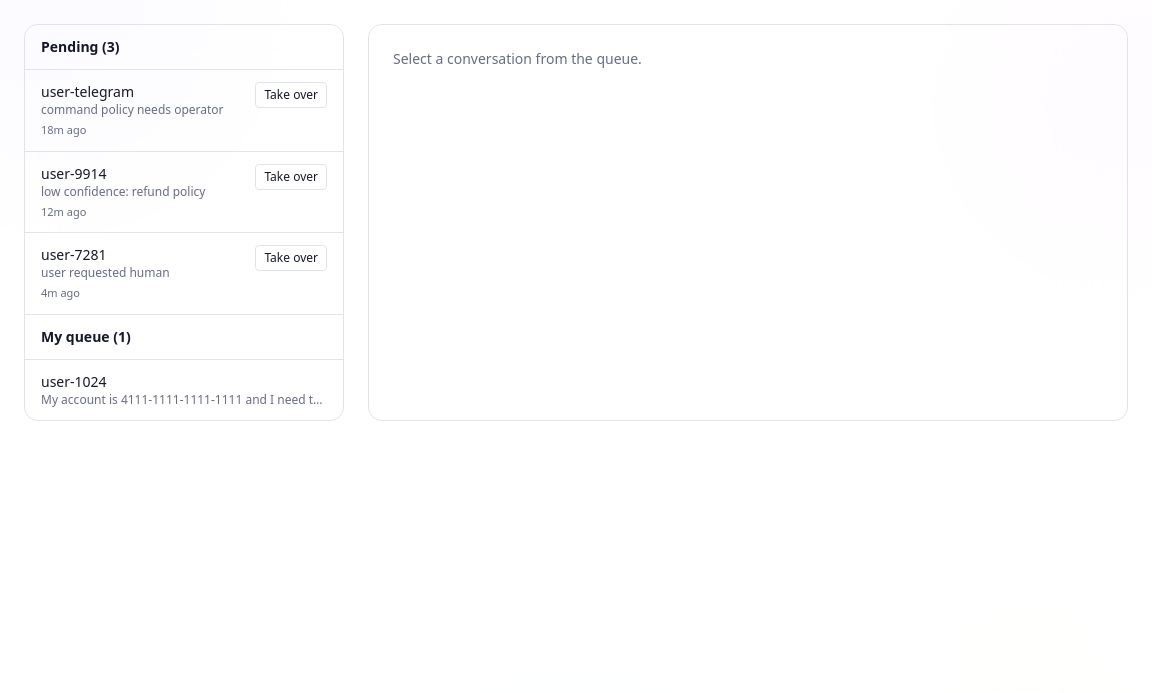
Test case: InboxScreen › saves a claimed operator resolution as an eval with evidence
Click the button with test id "claim-11111111-1111-1111-1111-111111111111" at x=291, y=258, box [255, 245, 327, 271]
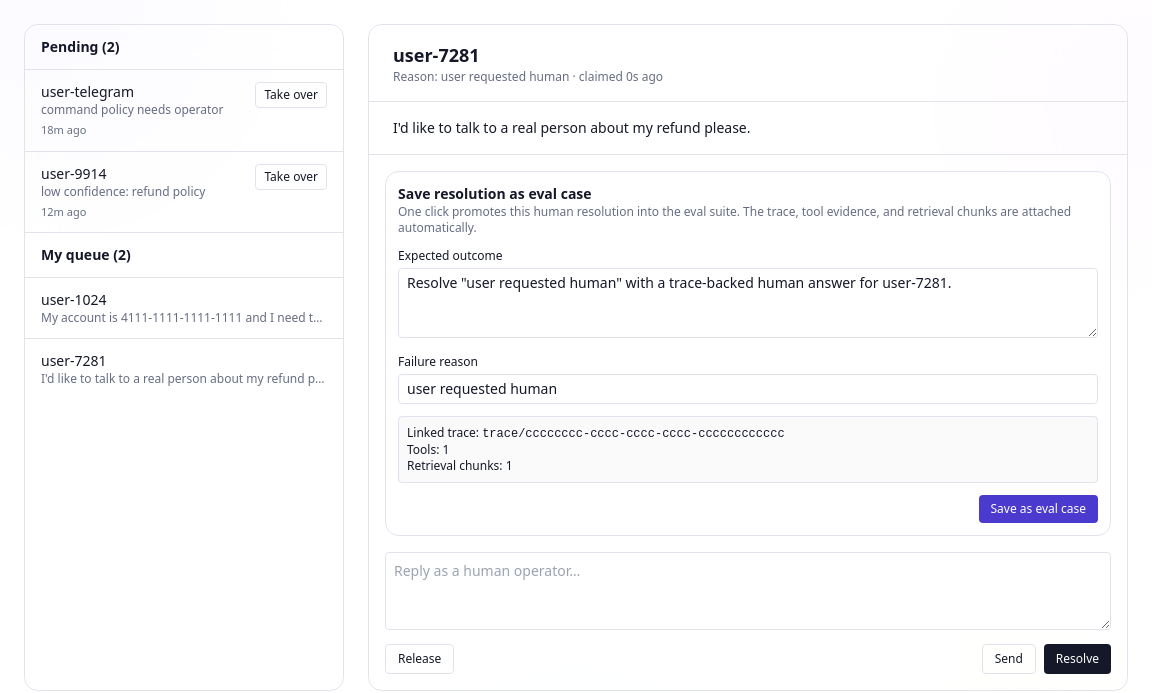
Type "I confirmed the May policy and issued the refund." into the text box with test id "composer-input" at x=748, y=591, box [385, 552, 1111, 630]
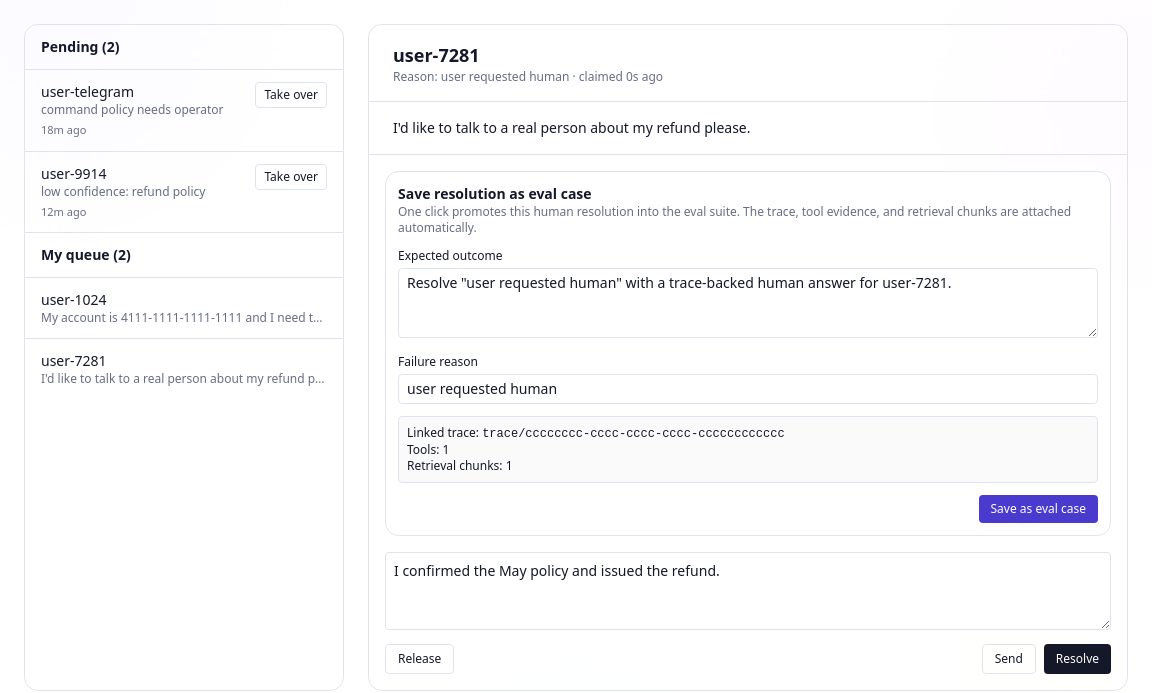
Click the button with test id "send-button" at x=1009, y=659, box [982, 644, 1036, 674]
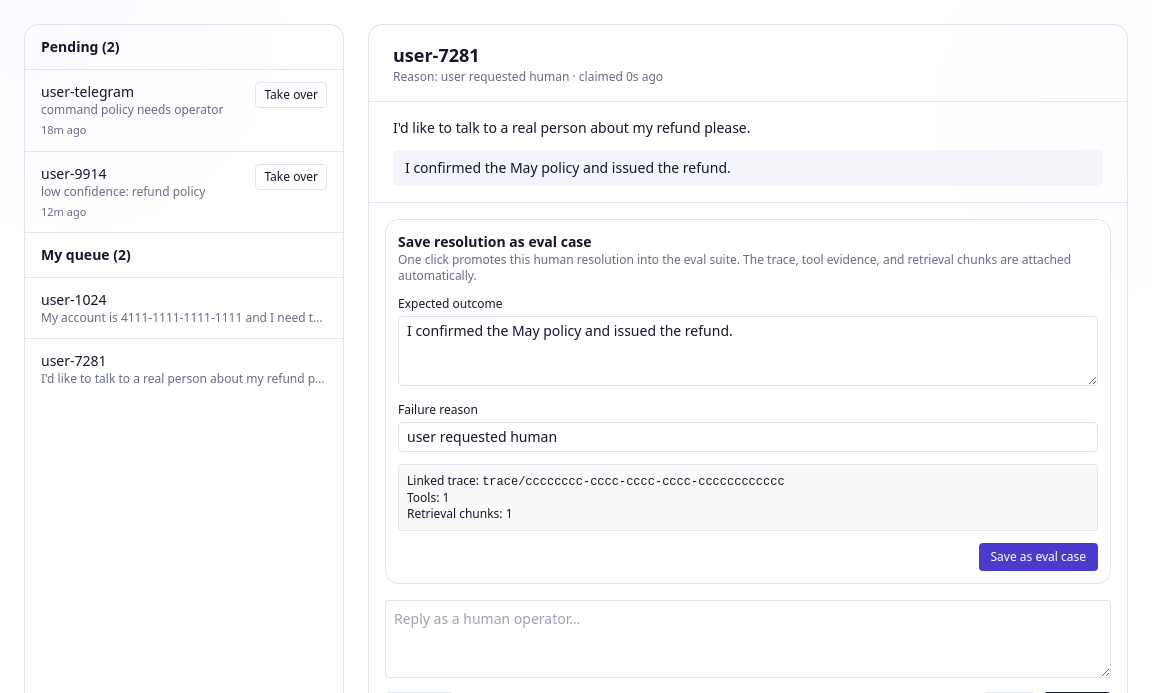
Click the button with test id "resolution-save-eval" at x=1038, y=557, box [978, 543, 1098, 571]
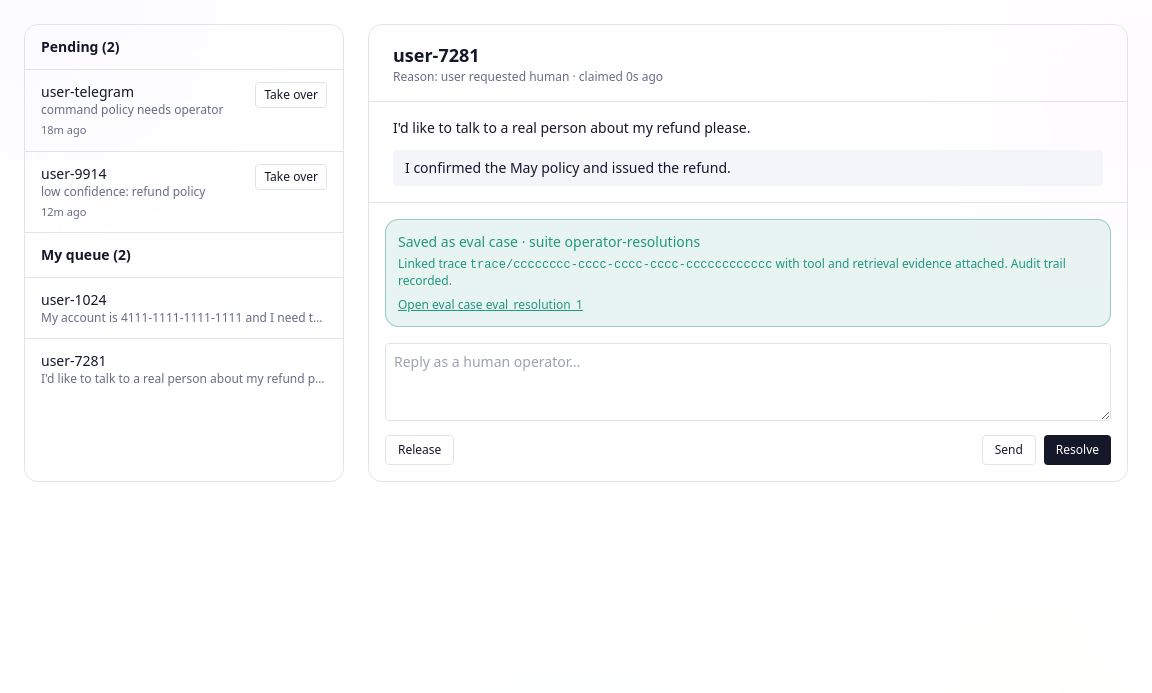
Check: the element with test id "resolution-to-eval-saved" shows "operator-resolutions", box [565, 232, 700, 251]
